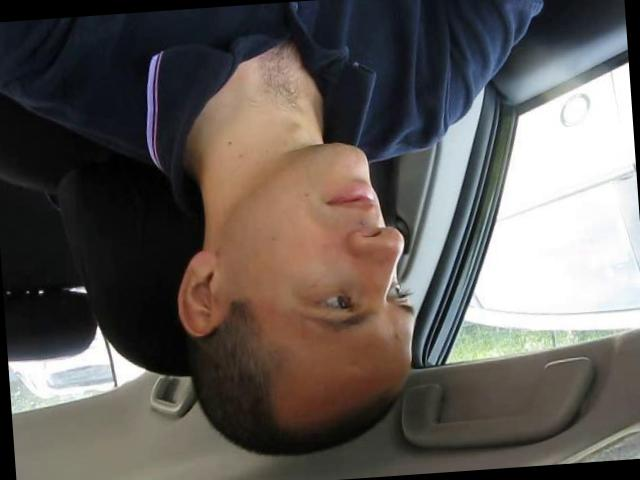eye_open: (305, 283, 365, 316)
face: (232, 137, 418, 354)
